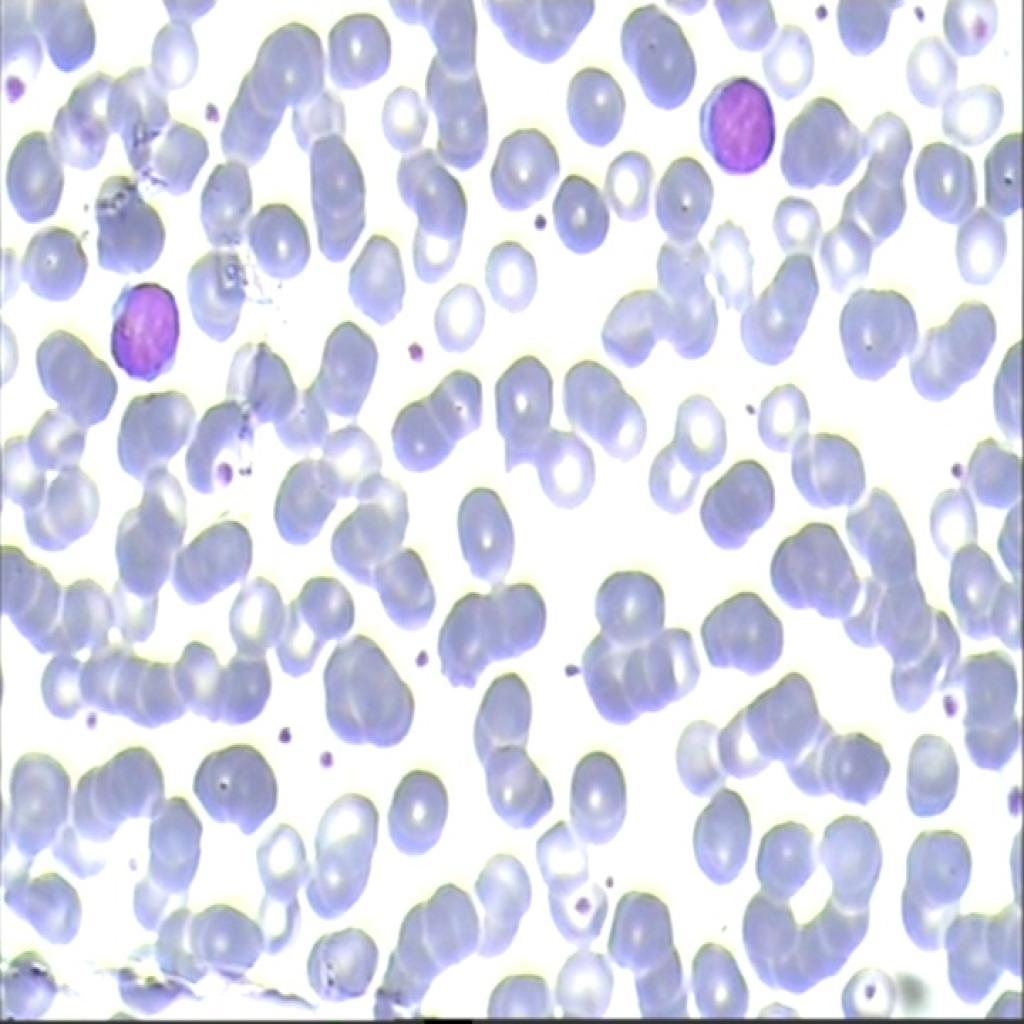Limfosit: (91, 263, 189, 400), (691, 57, 784, 183)
Platelet: (264, 706, 306, 768), (402, 630, 440, 694), (308, 729, 346, 791), (203, 455, 249, 505), (68, 698, 110, 746), (526, 196, 560, 250), (795, 0, 845, 32), (0, 64, 38, 106), (192, 92, 230, 130), (555, 645, 583, 695), (400, 327, 436, 365), (940, 452, 979, 487), (902, 0, 934, 32), (735, 390, 768, 420), (943, 688, 966, 722), (1006, 777, 1022, 823)
